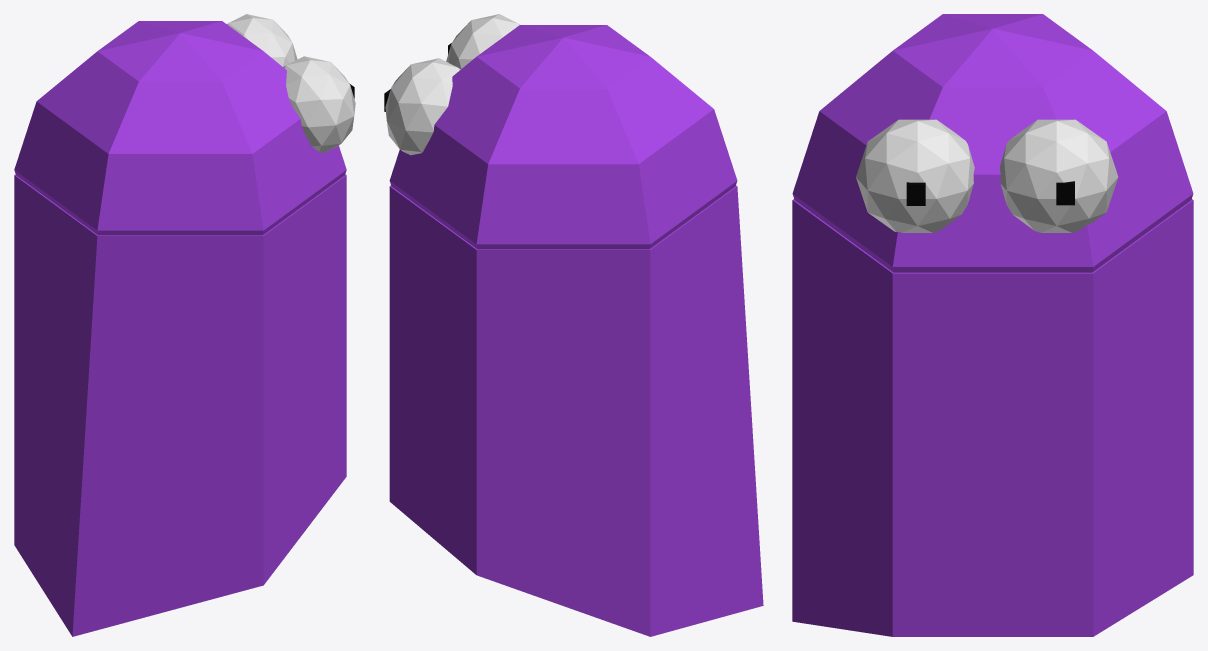
Rendered from fantasma_roxo_idle.fbx.
The picture shows the model from 3 angles, left to right: view 1: azimuth 30°, elevation 25°; view 2: azimuth 150°, elevation 25°; view 3: azimuth 270°, elevation 25°; orthographic projection. The views are drawn at different scales.
Parts seen in each view (by area): view 1: Cylinder, Sphere, Icosphere, Icosphere.001; view 2: Cylinder, Sphere, Icosphere.001, Icosphere; view 3: Cylinder, Sphere, Icosphere, Icosphere.001.
Part boxes in pixels (box(x1,y1,x2,y2)): Cylinder: box(14, 174, 346, 636); Sphere: box(14, 21, 346, 235); Icosphere: box(283, 56, 355, 152); Icosphere.001: box(227, 14, 297, 66); Cylinder: box(389, 185, 763, 636); Sphere: box(389, 25, 737, 249); Icosphere.001: box(385, 58, 460, 155); Icosphere: box(446, 14, 519, 69); Cylinder: box(792, 199, 1193, 636); Sphere: box(792, 14, 1193, 272); Icosphere: box(856, 119, 974, 232); Icosphere.001: box(999, 119, 1118, 232).
Size of the model in its own units: 200 by 356 by 200.
